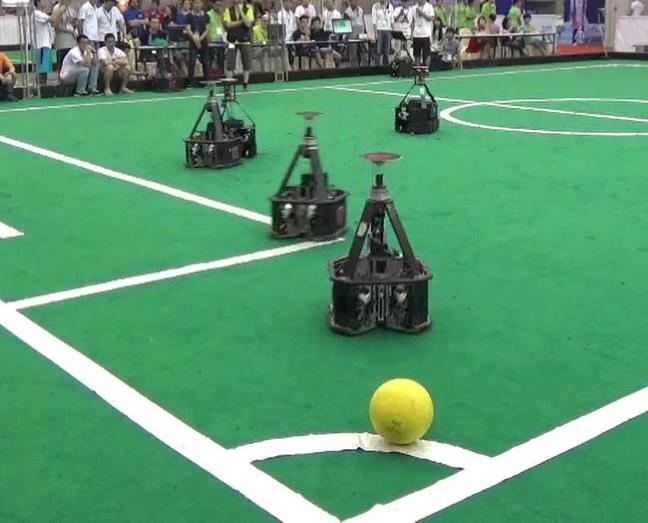robot: (324, 142, 433, 341), (262, 105, 354, 242), (171, 73, 245, 172), (389, 57, 448, 142)
